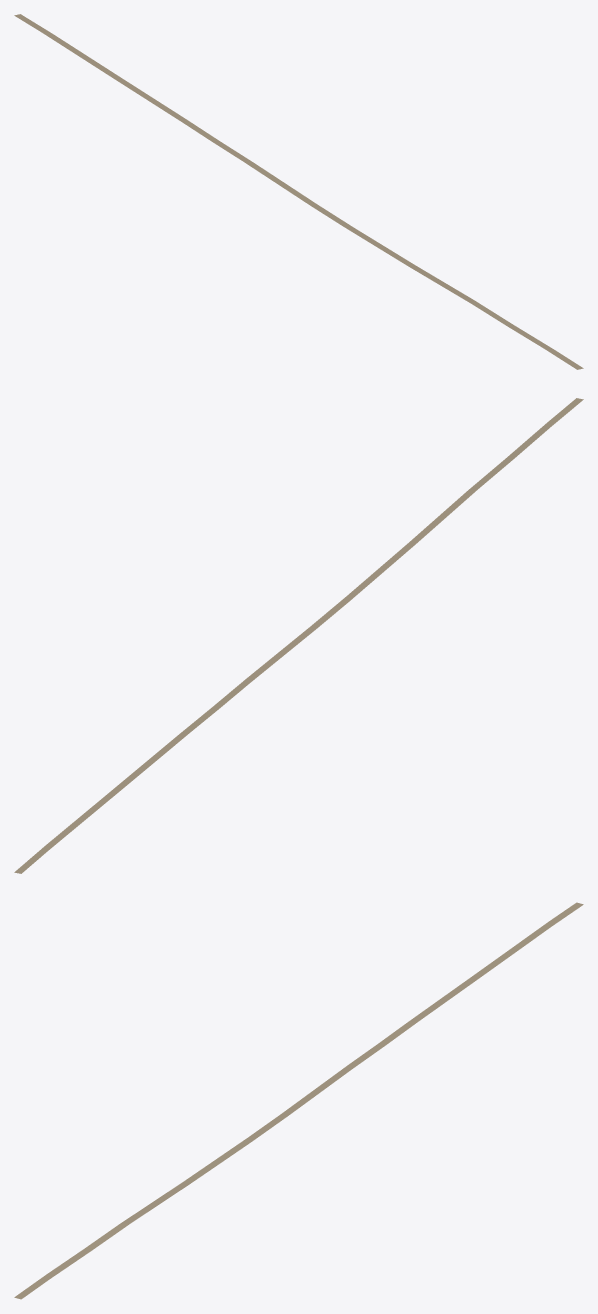
The model's file is farm_-3_10_track.glb.
The picture shows the model from 3 angles, top to bottom: view 1: azimuth 30°, elevation 25°; view 2: azimuth 150°, elevation 25°; view 3: azimuth 330°, elevation 25°; orthographic projection. The views are drawn at different scales.
Parts seen in each view (by area): view 1: geometry_0; view 2: geometry_0; view 3: geometry_0.
Boxes of the visible parts, x1,y1,x2,y2 form: geometry_0: [14, 14, 583, 369]; geometry_0: [14, 398, 583, 873]; geometry_0: [14, 902, 583, 1299].
Bounding box in the file's own units: 13.9 × 17.26 × 459.
